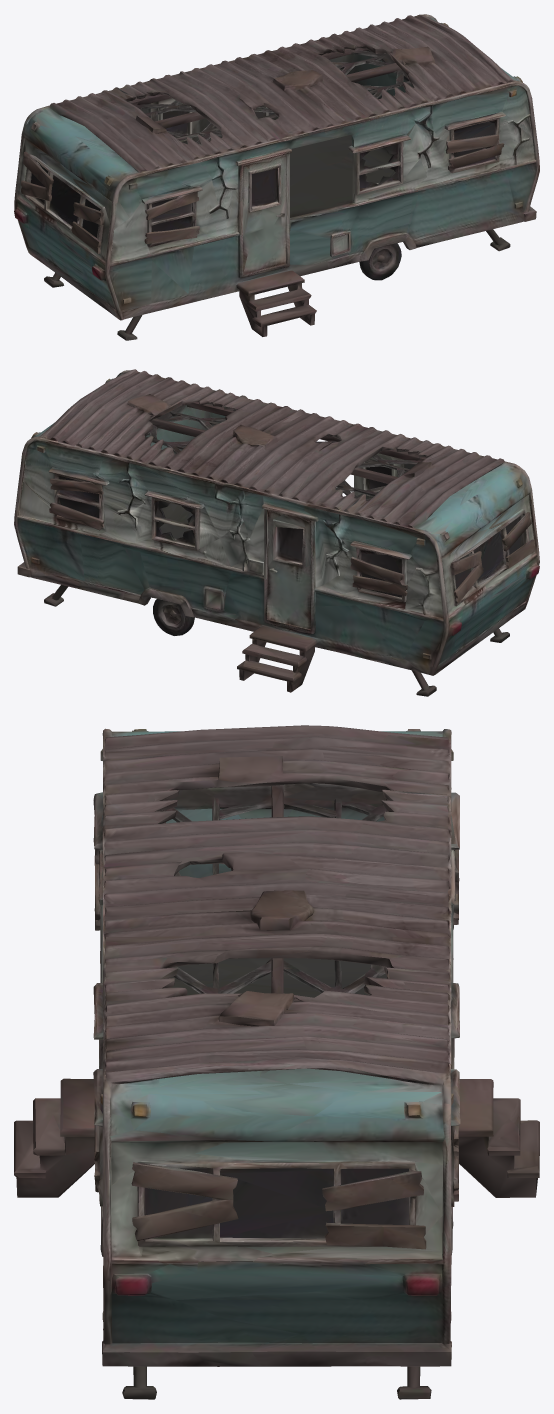
The model's file is house_trailer_idle.glb.
3 renders of one model, top to bottom at view 1: azimuth 30°, elevation 25°; view 2: azimuth 150°, elevation 25°; view 3: azimuth 270°, elevation 25°, orthographic. The views are drawn at different scales.
Parts seen in each view (by area): view 1: tripo_node_e9ea7f71-c5bd-4243-8af8-ce4a8dfec000; view 2: tripo_node_e9ea7f71-c5bd-4243-8af8-ce4a8dfec000; view 3: tripo_node_e9ea7f71-c5bd-4243-8af8-ce4a8dfec000.
Boxes of the visible parts, x1,y1,x2,y2 form: tripo_node_e9ea7f71-c5bd-4243-8af8-ce4a8dfec000: (14,14,539,340); tripo_node_e9ea7f71-c5bd-4243-8af8-ce4a8dfec000: (14,369,539,696); tripo_node_e9ea7f71-c5bd-4243-8af8-ce4a8dfec000: (14,725,539,1399).
Bounding box in the file's own units: 10 × 4.01 × 5.52.
Materials: 1 (1 with a texture image).
